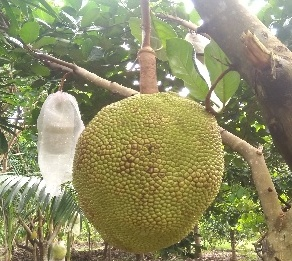Mit: (71, 94, 222, 251)
